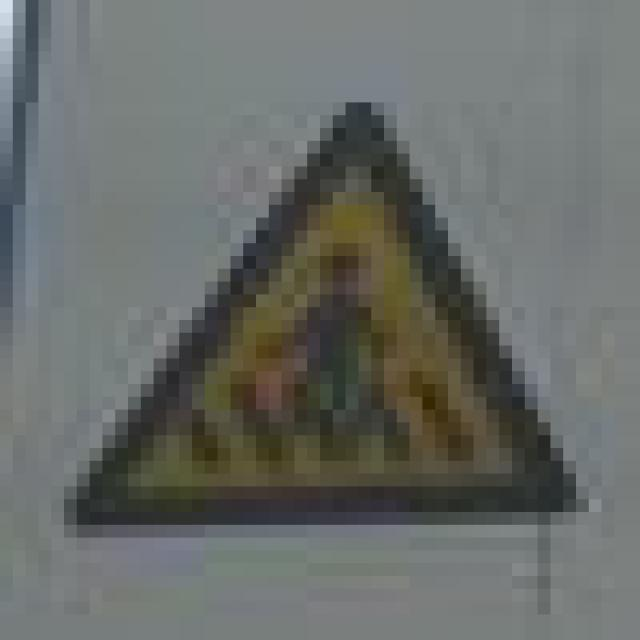PEDESTRIAN_CROSSING: (51, 77, 576, 525)
